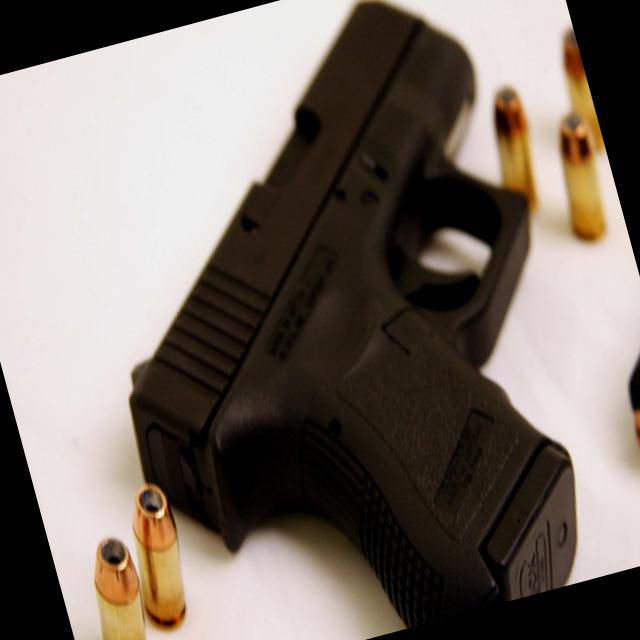handgun: (36, 0, 627, 639)
